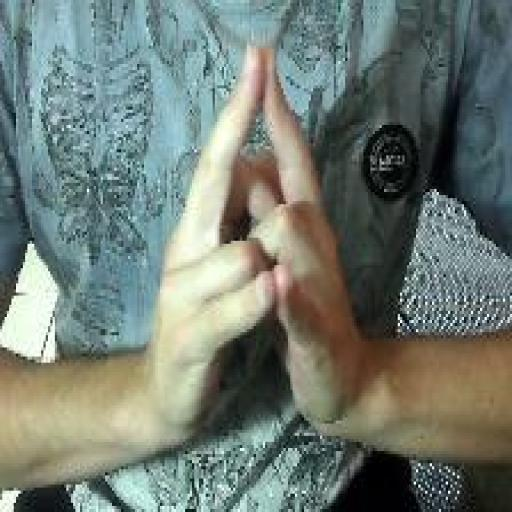Tori -bird-: (145, 37, 365, 445)
